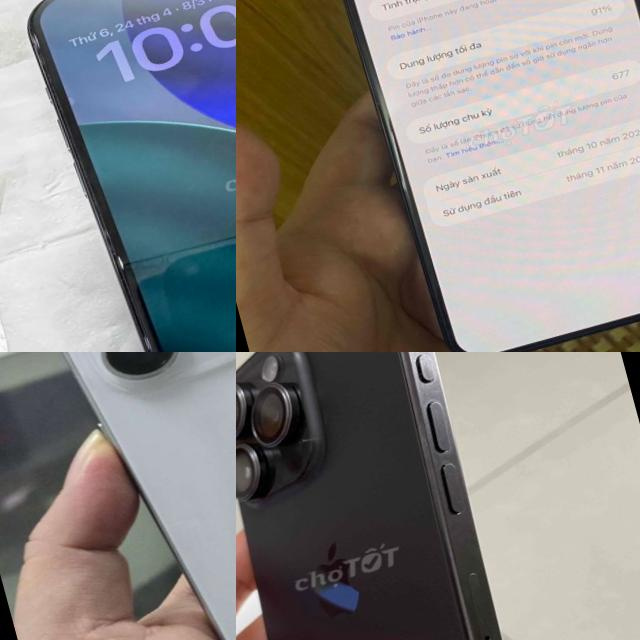gen_15: (310, 0, 640, 352), (236, 352, 583, 640), (0, 0, 236, 352)
gen_16: (63, 352, 236, 640)
